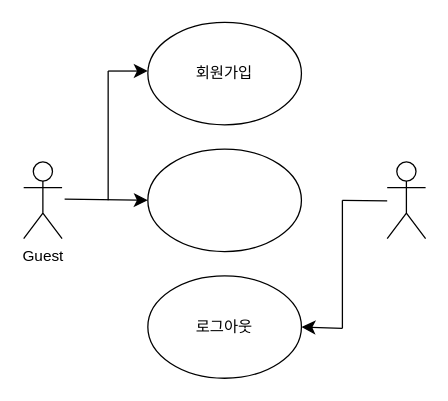
Some shapes in this 448 by 401 pixel diagram are drawn without their labels. Each missing label, with the centre of its shape:
"Login" goes at point 406,200.
"로그인" goes at point 224,200.
